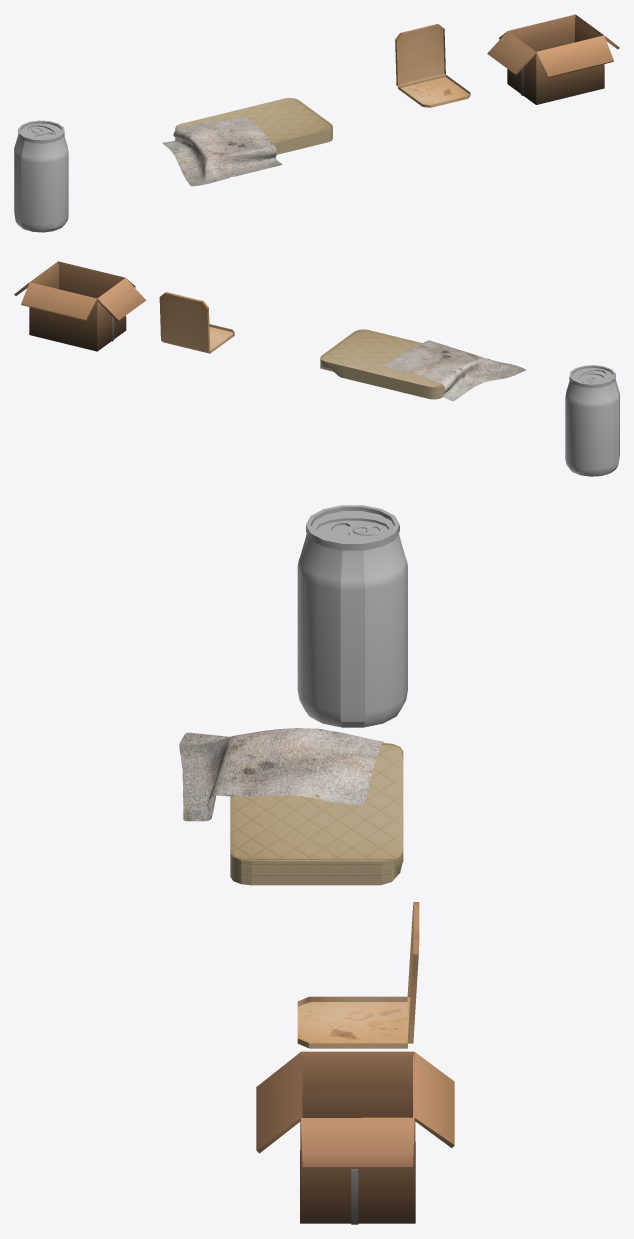
File: Asset Packs.fbx
The picture shows the model from 3 angles, top to bottom: view 1: azimuth 30°, elevation 25°; view 2: azimuth 150°, elevation 25°; view 3: azimuth 270°, elevation 25°; orthographic projection. The views are drawn at different scales.
Parts seen in each view (by area): view 1: Cube.001, Plane, Cylinder.004, Cube, Plane.023, Cylinder.001; view 2: Cube.001, Cylinder.004, Plane.023, Plane, Cube, Cylinder.001; view 3: Cube.001, Cylinder.004, Plane.023, Plane, Cube, Cylinder.001.
Part boxes in pixels (x1,y1,x2,y2): Cube.001: (487, 14, 619, 104); Plane: (162, 117, 282, 186); Cylinder.004: (14, 134, 68, 232); Cube: (395, 24, 470, 107); Plane.023: (175, 98, 332, 154); Cylinder.001: (18, 120, 64, 143); Cube.001: (14, 261, 146, 351); Cylinder.004: (565, 379, 619, 476); Plane.023: (320, 329, 445, 399); Plane: (384, 340, 525, 400); Cube: (159, 292, 234, 353); Cylinder.001: (569, 365, 615, 388); Cube.001: (256, 1051, 454, 1223); Cylinder.004: (297, 533, 407, 727); Plane.023: (230, 742, 403, 885); Plane: (179, 728, 383, 821); Cube: (297, 902, 419, 1048); Cylinder.001: (306, 505, 399, 550).
Bounding box in the file's own units: 2455 × 371 × 499.
